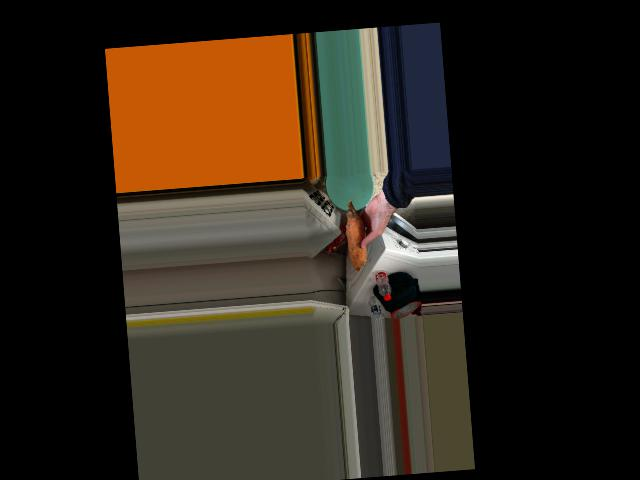sweet_potato: (344, 205, 370, 263)
